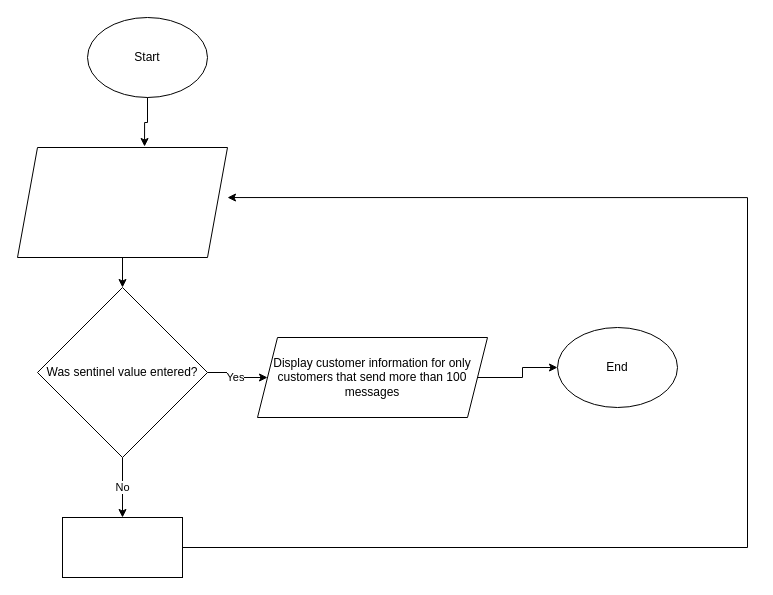
Some shapes in this 773 by 595 pixel diagram are drawn without their labels. The shapes that lost their labels are listed below. From the top down, each one's centre as x and y in pixels, then its label:
(x=122, y=202): Prompt user to input text message information. Sender/recipient and message
(x=122, y=547): Validate data and store in database.
